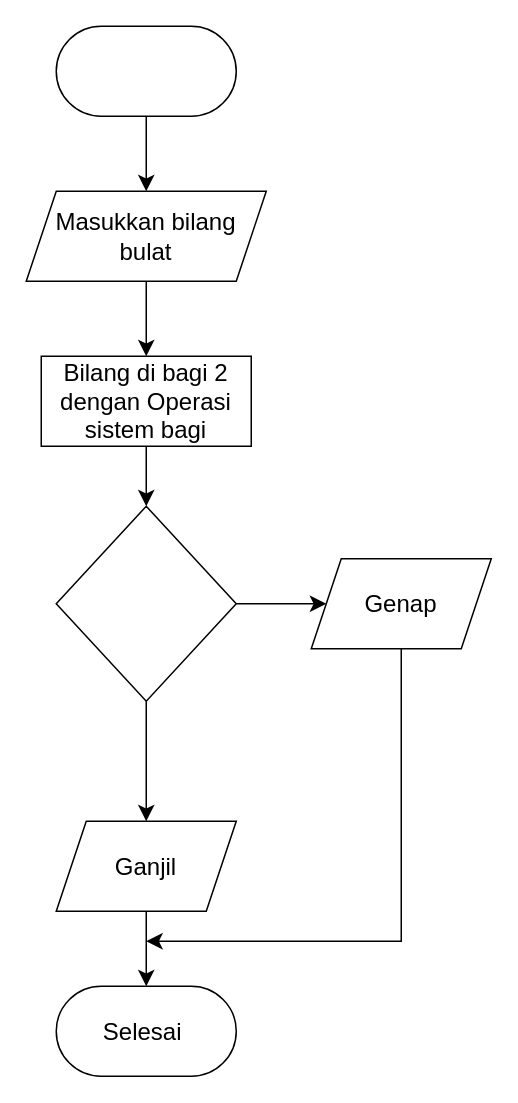
Some shapes in this 518 by 1103 pixel diagram are drawn without their labels. The centre of each missing label's shape, as x and y in pixels:
mulai: (x=145, y=70)
Sisa bagi = 0: (x=145, y=603)
